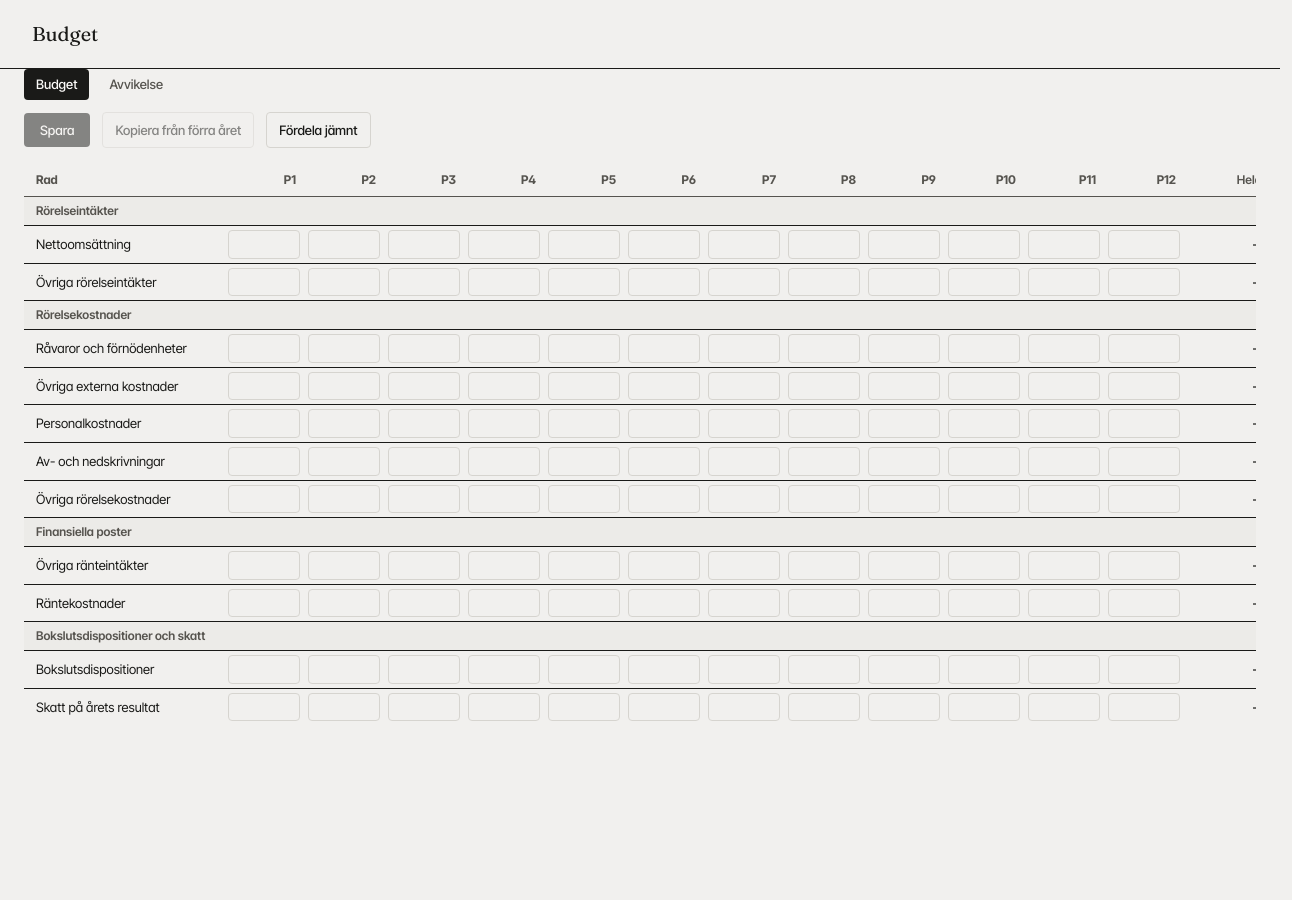
PageBudget › R4: tab switch to Avvikelse renders variance grid
The width and height of the screenshot is (1292, 900).
Expected: the text "Nettoomsättning" is shown, x1=24 y1=226 x2=224 y2=263
Click the tab "Avvikelse" at [136, 84], box x1=97 y1=69 x2=175 y2=100
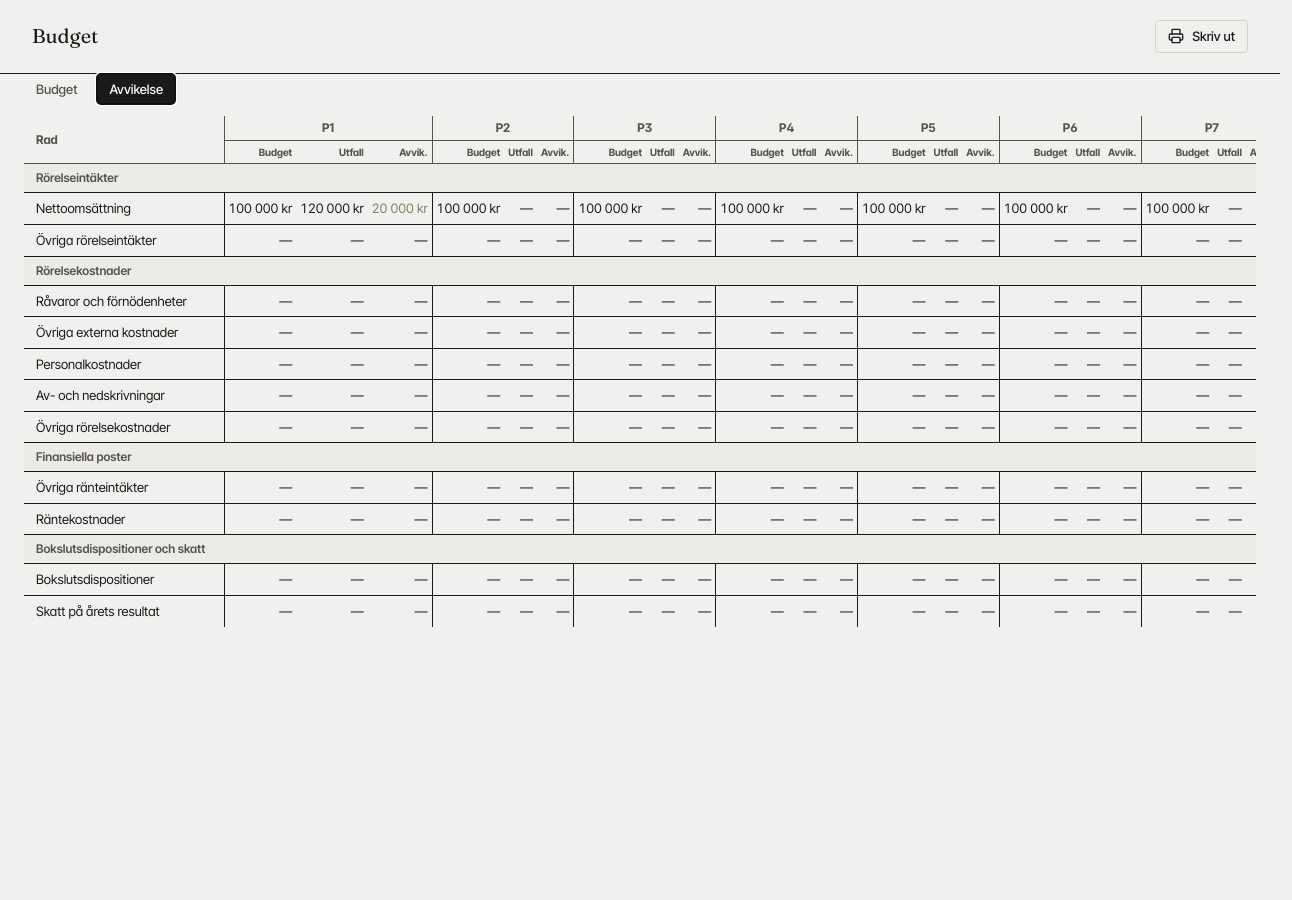
Expected: the heading "Budget" is shown, x1=32 y1=22 x2=98 y2=50
Now the 1st column heading "Utfall" is shown, box x1=296 y1=141 x2=368 y2=164
